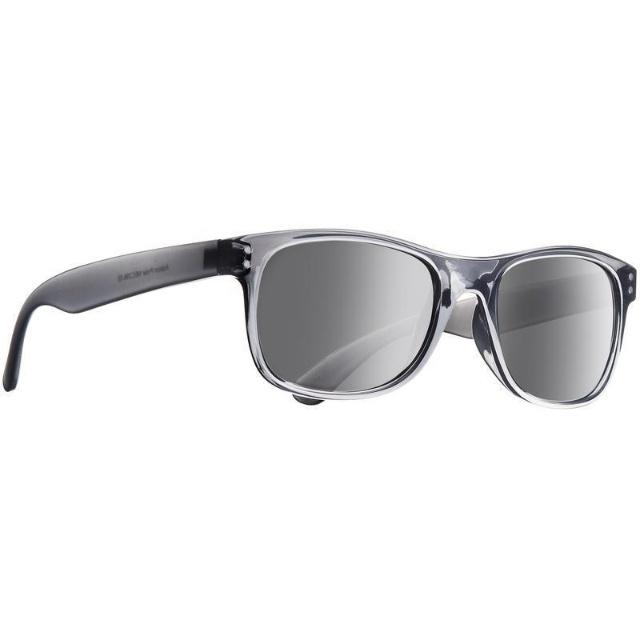Sunglasses: (0, 219, 630, 461)
